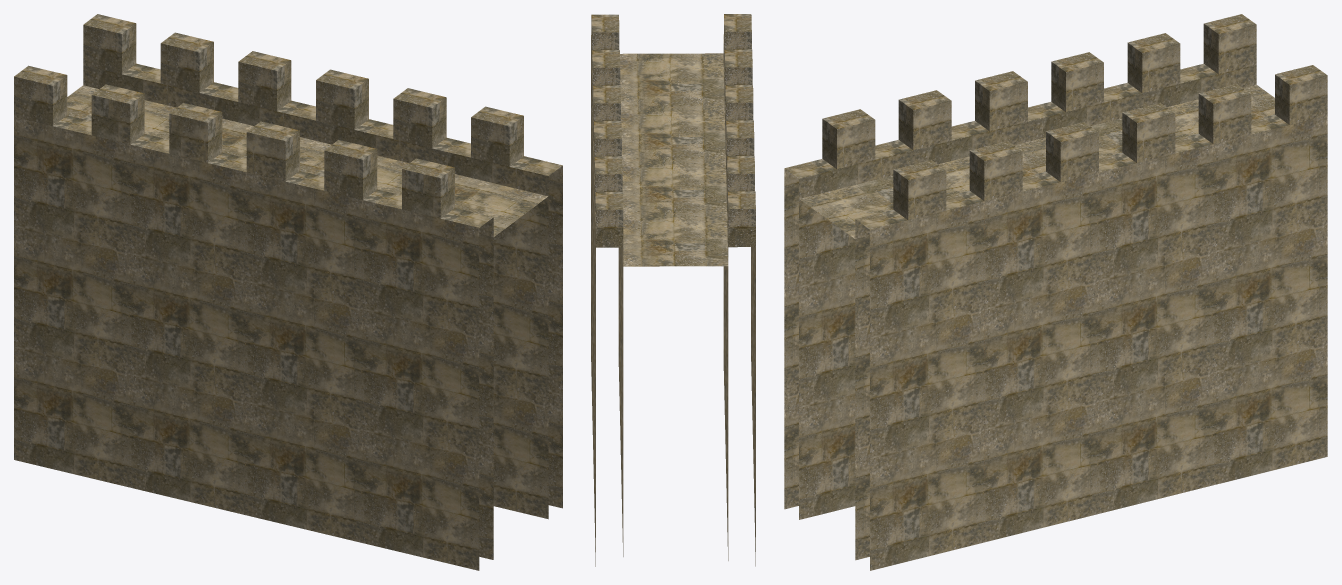
The model's file is CastleWall.fbx.
3 views of the same model, side by side, from view 1: azimuth 30°, elevation 25°; view 2: azimuth 150°, elevation 25°; view 3: azimuth 270°, elevation 25° (orthographic). The views are drawn at different scales.
Visible parts, largest first — view 1: CastleWall.011, CastleWall.015; view 2: CastleWall.015, CastleWall.011; view 3: CastleWall.011, CastleWall.015.
Part boxes in pixels (x1,y1,x2,y2): CastleWall.011: [14, 14, 562, 570]; CastleWall.015: [67, 85, 547, 236]; CastleWall.015: [620, 53, 728, 266]; CastleWall.011: [591, 14, 755, 566]; CastleWall.011: [784, 14, 1327, 570]; CastleWall.015: [799, 85, 1274, 238].
Size of the model in its own units: 626 by 633 by 818.
